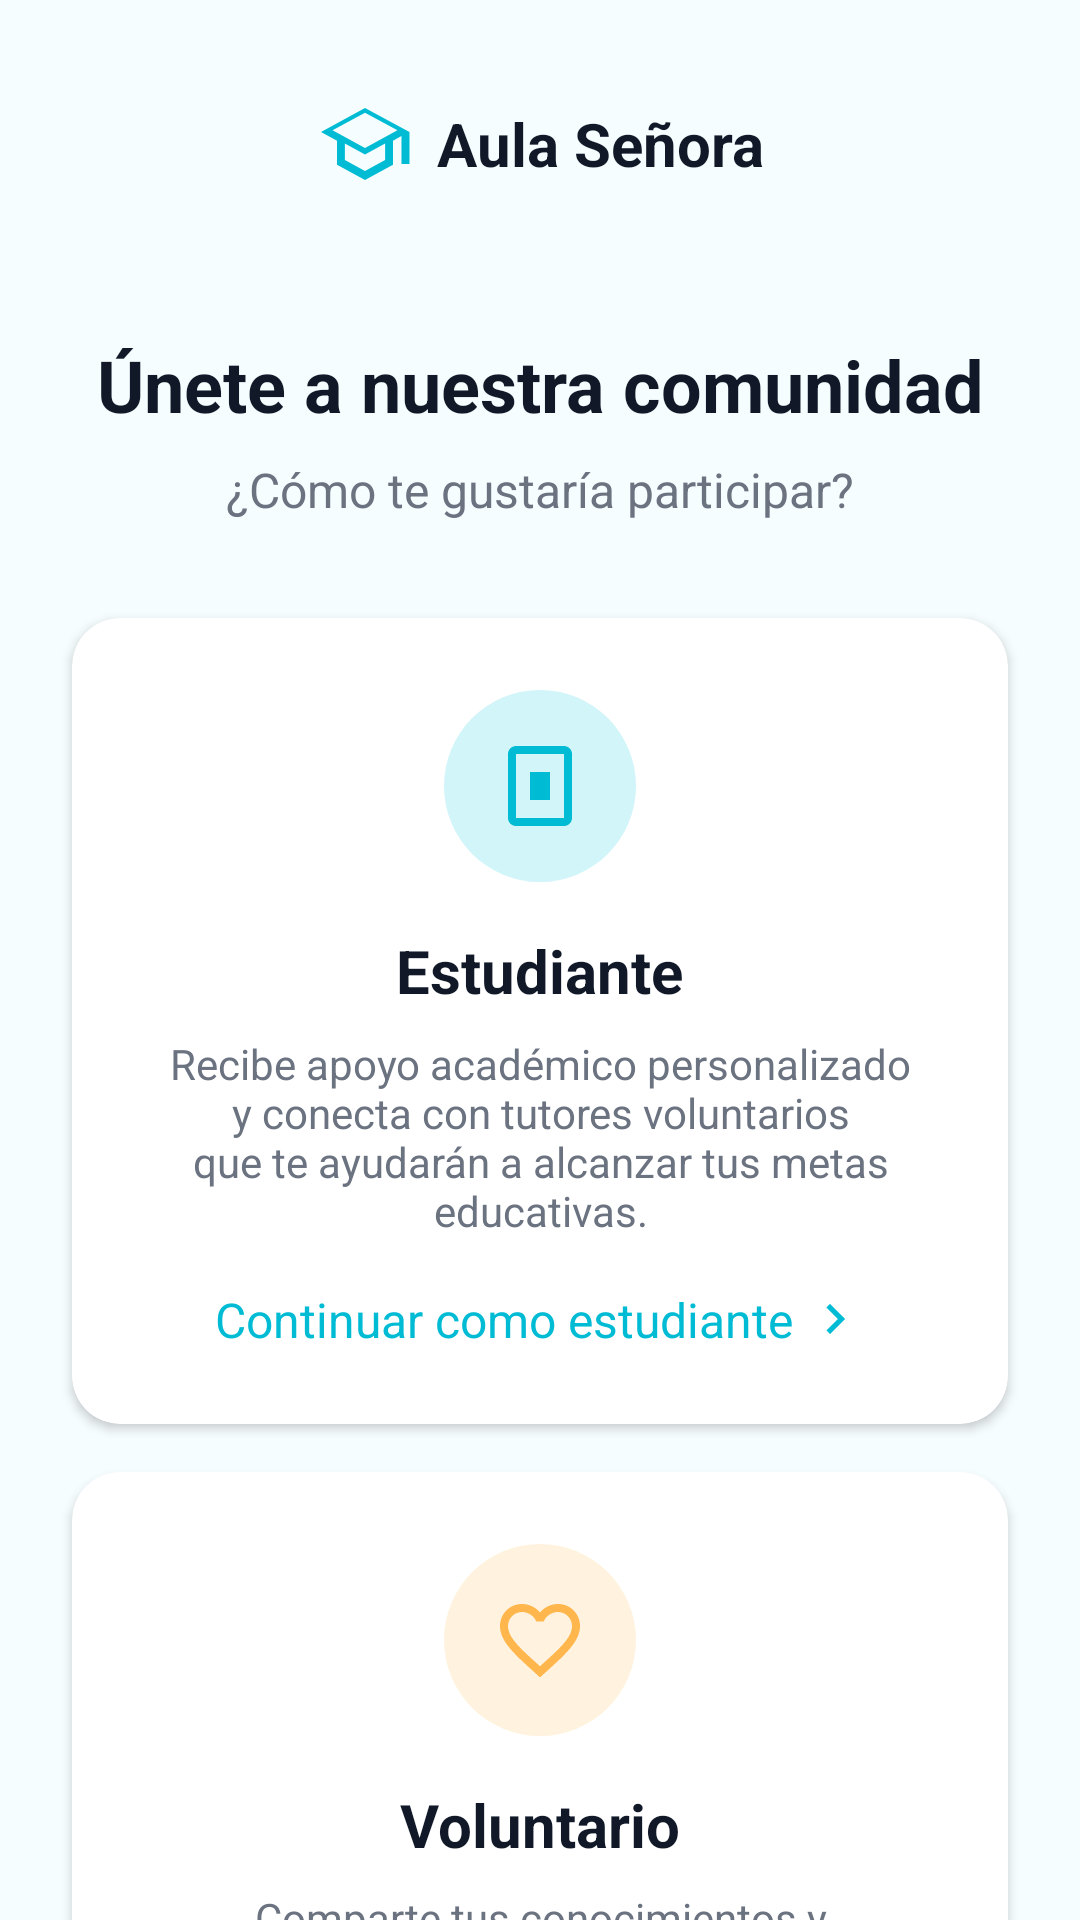

Icons on this 1080px×1920px Android screen, each with the point to tap as (x=x, y=y):
chevron right cyan: (x=835, y=1319)
heart: (x=540, y=1640)
